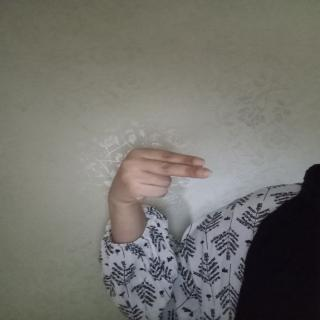AYN: (108, 143, 214, 219)
